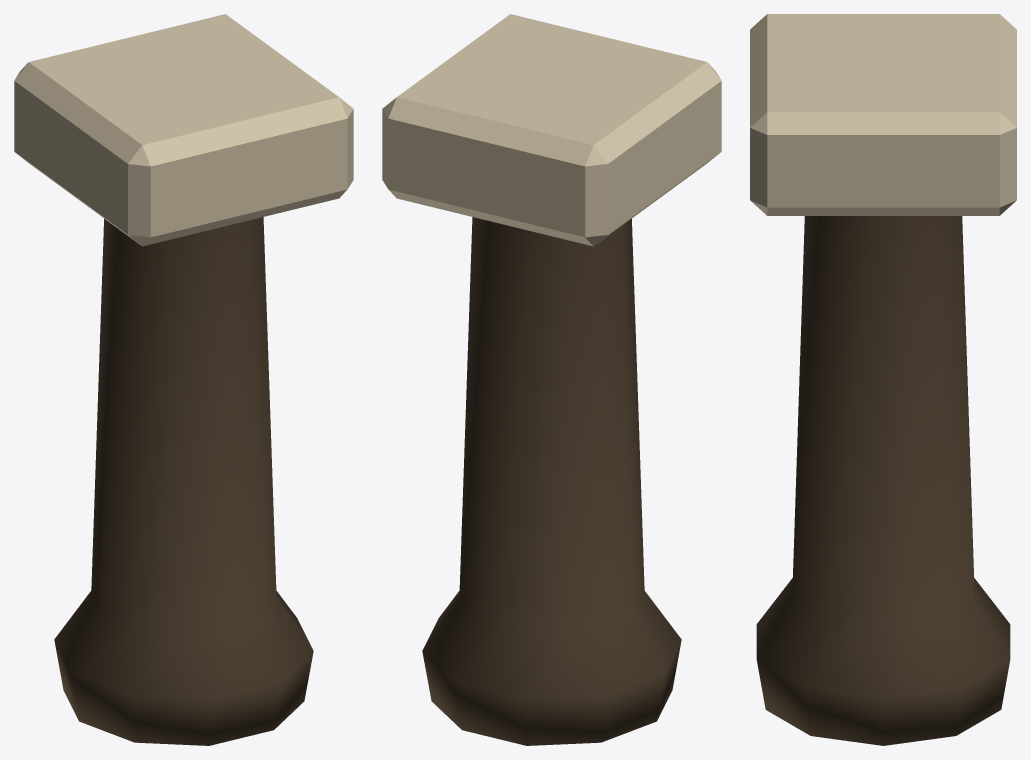
Rendered from bollard.glb.
The picture shows the model from 3 angles, left to right: view 1: azimuth 30°, elevation 25°; view 2: azimuth 150°, elevation 25°; view 3: azimuth 270°, elevation 25°; orthographic projection. The views are drawn at different scales.
Parts seen in each view (by area): view 1: bollard; view 2: bollard; view 3: bollard.
Part boxes in pixels (x1=…): bollard: x1=14, y1=14, x2=353, y2=745; bollard: x1=382, y1=14, x2=721, y2=745; bollard: x1=750, y1=14, x2=1016, y2=745.
Size of the model in its own units: 0.28 by 0.73 by 0.28.
